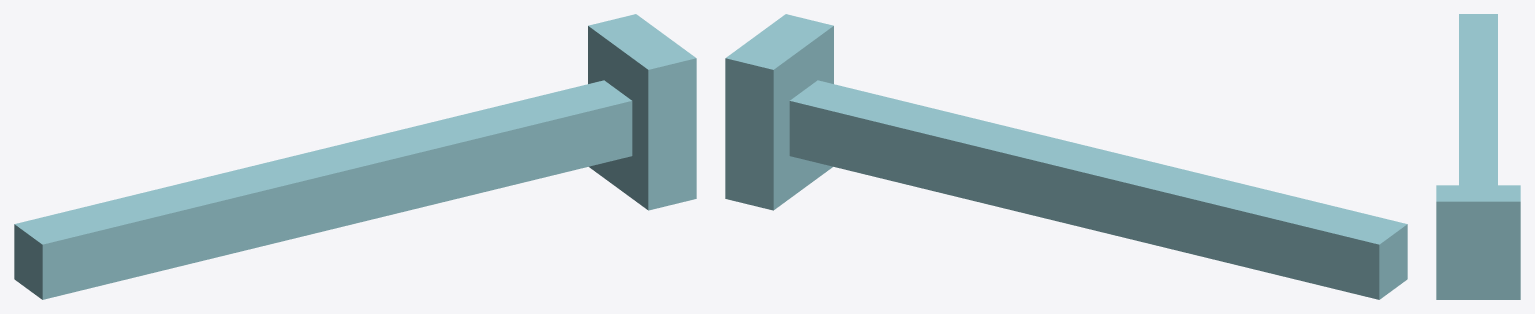
Rendered from cuboid_hammer_v004.obj.
The picture shows the model from 3 angles, left to right: view 1: azimuth 30°, elevation 25°; view 2: azimuth 150°, elevation 25°; view 3: azimuth 270°, elevation 25°; orthographic projection. The views are drawn at different scales.
Size of the model in its own units: 0.2885 by 0.0608 by 0.0473.
Materials: 1 (1 with a texture image).
